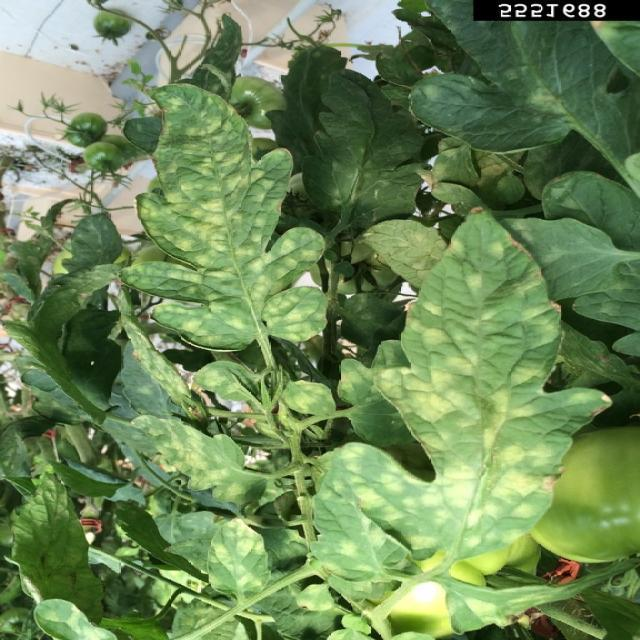Mosaic Virus: (334, 245, 552, 570), (146, 100, 299, 338), (124, 417, 287, 505), (298, 504, 398, 584), (200, 520, 266, 598)
